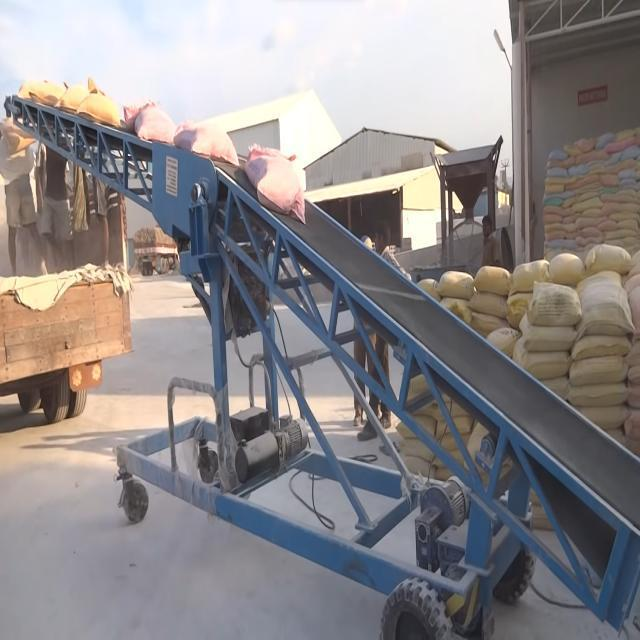gunny_bag: (245, 142, 305, 223), (578, 270, 636, 341), (173, 119, 239, 164), (513, 337, 572, 379), (528, 281, 583, 326), (570, 355, 629, 385), (134, 104, 175, 143), (76, 91, 120, 126), (572, 335, 633, 360), (510, 258, 551, 294), (524, 324, 578, 351), (586, 244, 632, 275), (569, 382, 628, 406), (577, 404, 630, 430), (17, 78, 64, 105), (474, 265, 512, 297), (550, 252, 586, 285), (487, 327, 522, 358), (469, 290, 509, 317), (438, 270, 474, 300), (54, 82, 88, 111), (507, 292, 534, 327), (605, 135, 638, 152), (630, 284, 640, 333), (577, 148, 609, 163), (573, 196, 604, 211), (546, 238, 579, 248), (578, 136, 598, 152), (548, 166, 569, 180), (544, 204, 567, 215), (619, 167, 638, 180), (549, 149, 569, 159), (546, 183, 566, 192)
